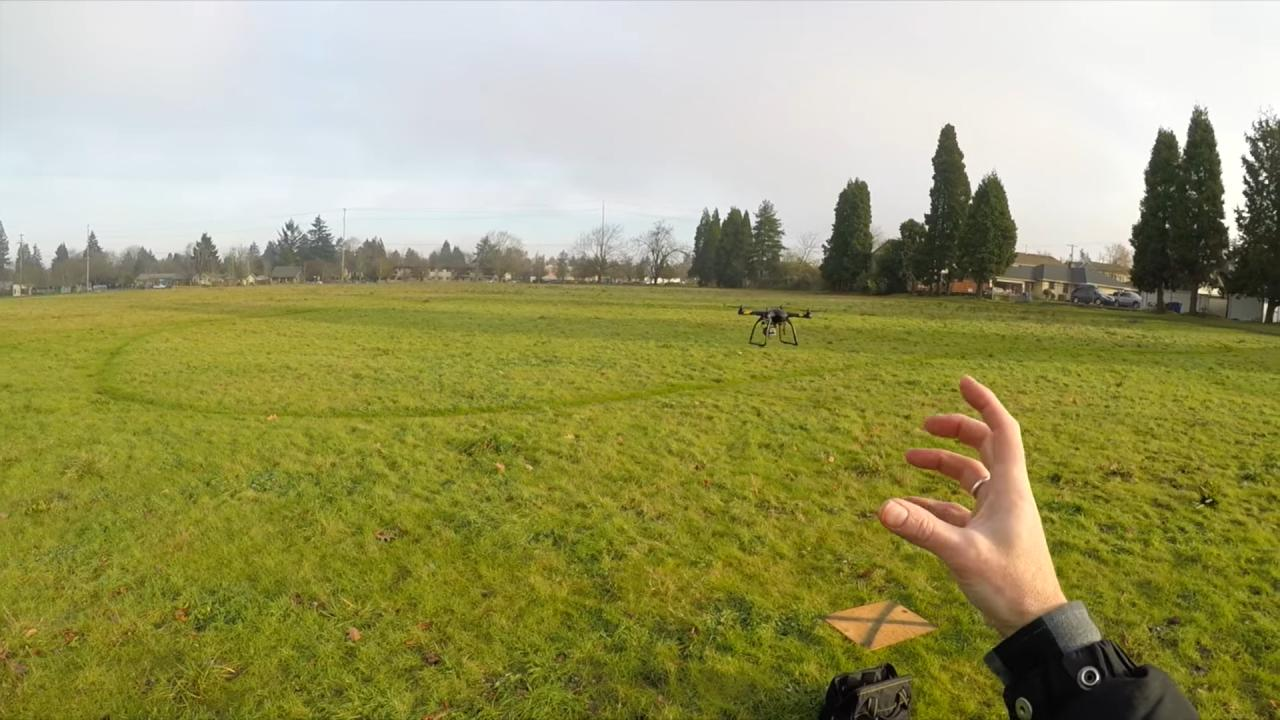Drone: (722, 293, 835, 357)
